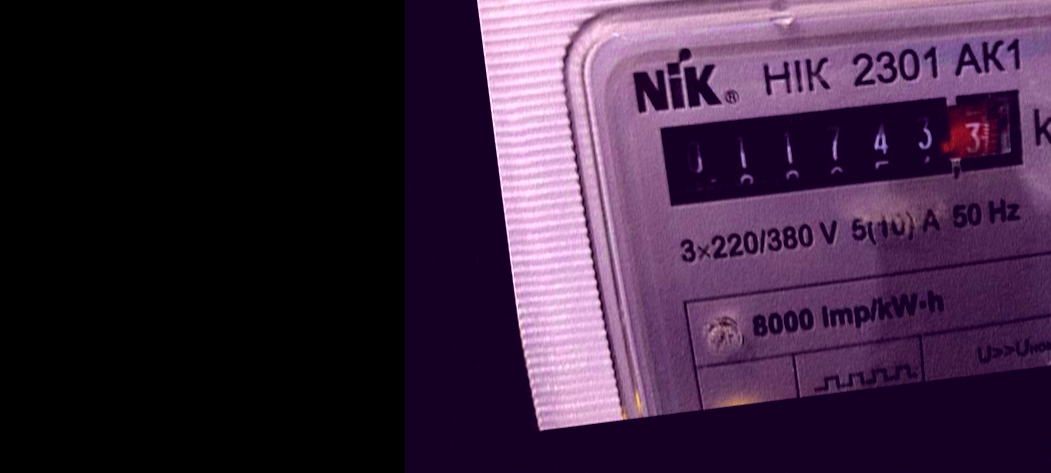0: (683, 137, 710, 178), (733, 130, 756, 173)
1: (779, 125, 800, 168)
3: (914, 111, 939, 156), (963, 118, 988, 158)
4: (869, 116, 894, 159)
7: (822, 119, 850, 166)
screen: (641, 69, 1039, 224)
